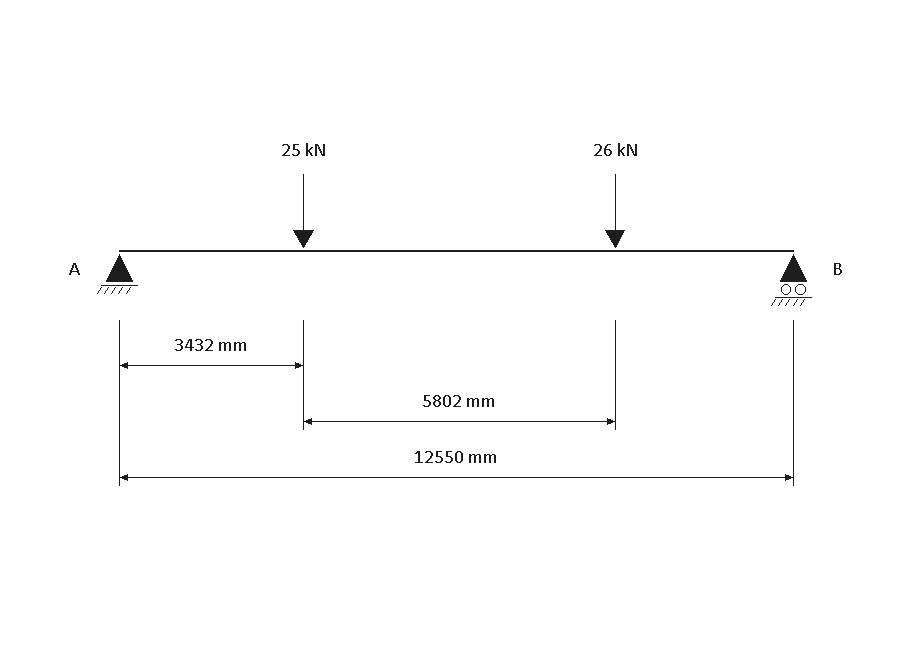pin_support: (97, 254, 138, 294)
point_load: (293, 174, 314, 248), (605, 174, 625, 248)
roller_support: (771, 254, 812, 306)
